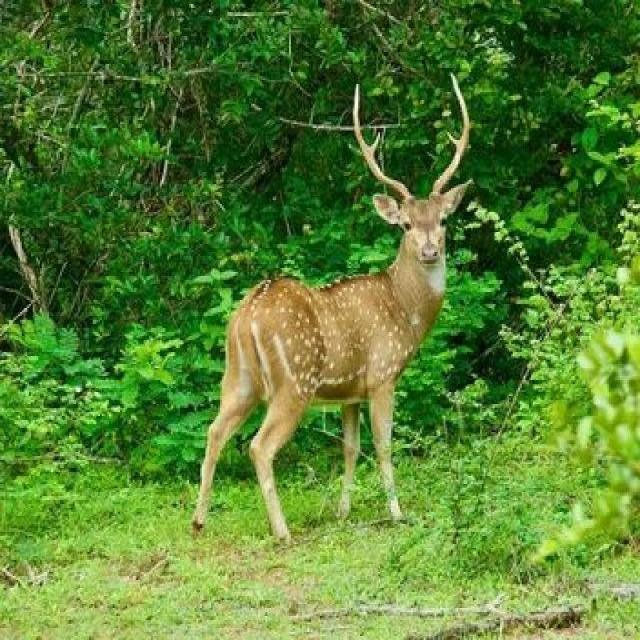deer: (148, 44, 490, 528)
